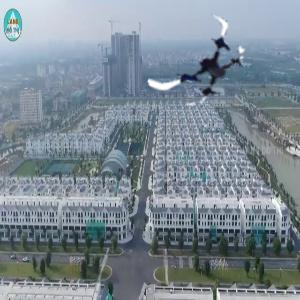drone: (157, 13, 257, 113)
